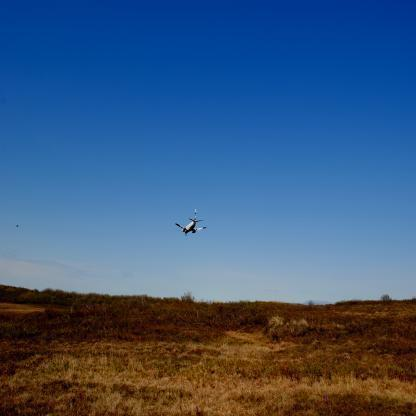aircraft: (176, 208, 207, 236)
